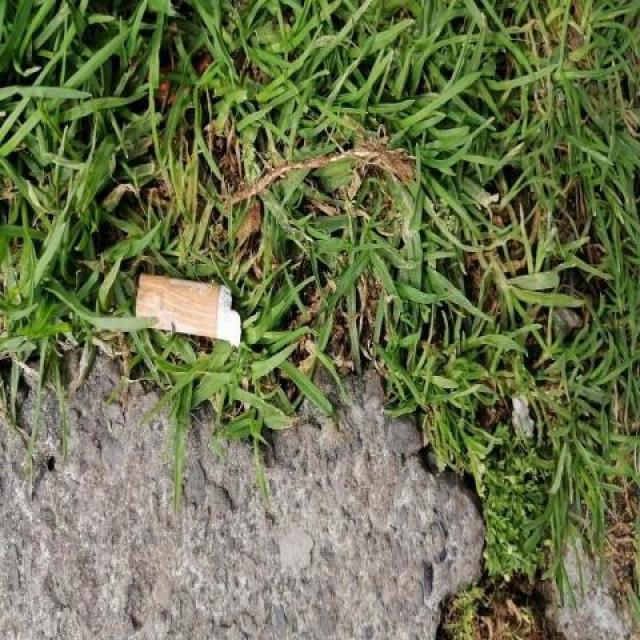non-organic waste: (130, 268, 245, 349)
